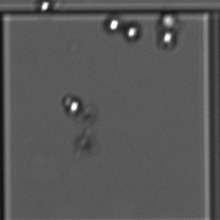Dead Cell: (72, 131, 99, 157), (79, 105, 99, 126)
Living Cell: (123, 24, 140, 41), (159, 31, 177, 47), (64, 99, 83, 114), (160, 14, 179, 27), (35, 1, 55, 12), (108, 17, 120, 30)
